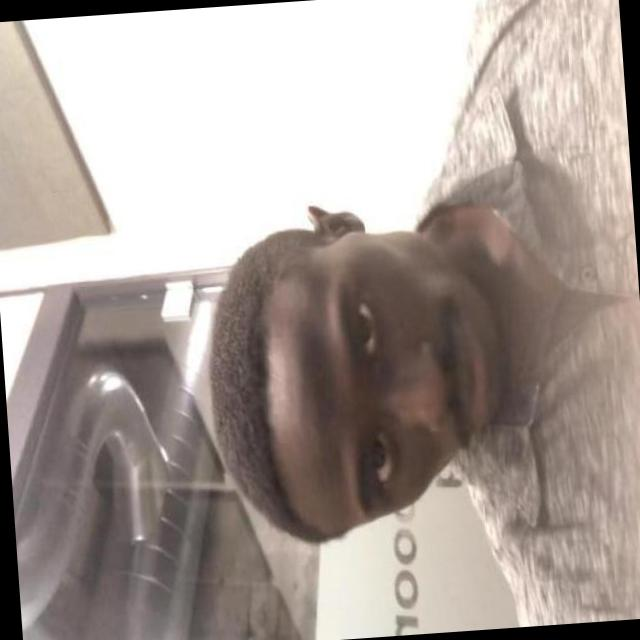bareface: (198, 184, 508, 550)
